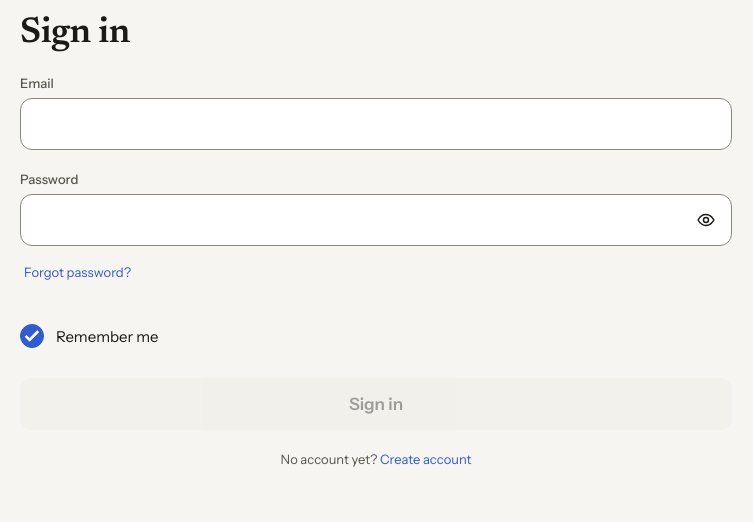
Scenario: Sign in (AA-2) › T-AA-10, A11Y-62: wrong details show auth.invalid, keep the email, clear and focus the password
The width and height of the screenshot is (753, 522).
Type "example@gmail.com" into the field labelled "Email". click: coordinates (376, 124)
box: x1=20 y1=98 x2=732 y2=150
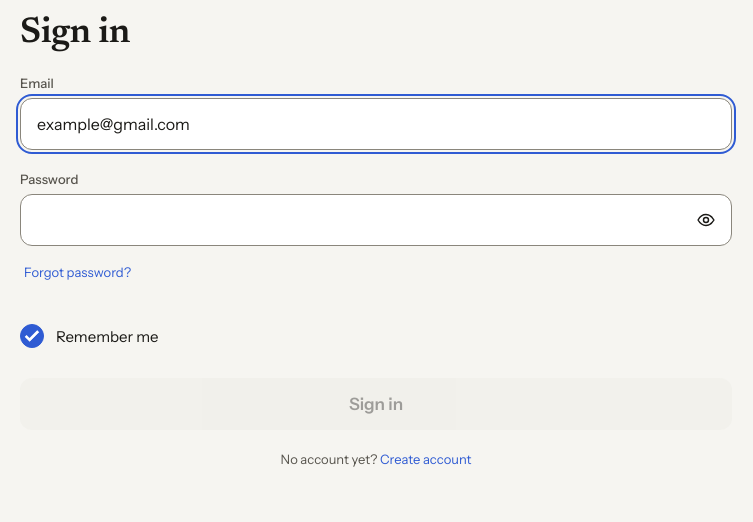
Type "quiet river 42" into the password field labelled "Password". click: coordinates (376, 220)
box: x1=20 y1=194 x2=732 y2=246
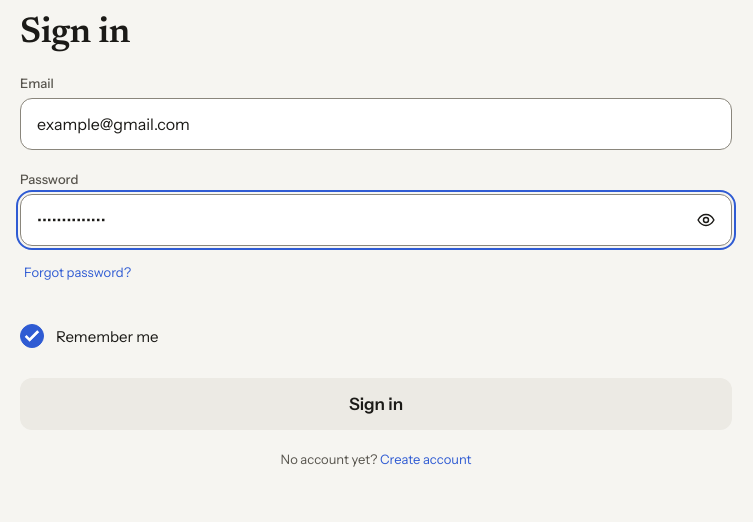
Click the button "Sign in". click: coordinates (376, 404)
box: x1=20 y1=378 x2=732 y2=430
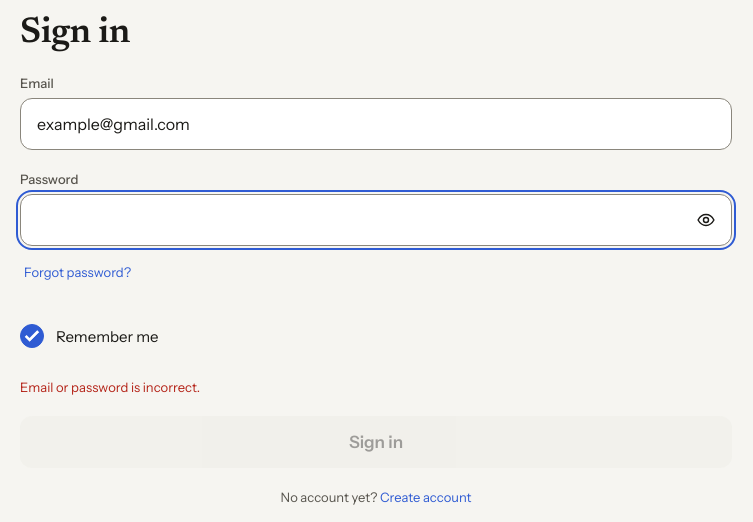
Result: the message reads "Email or password is incorrect." at x1=20 y1=379 x2=200 y2=395
Result: the password field labelled "Password" is empty at x1=20 y1=194 x2=732 y2=246
